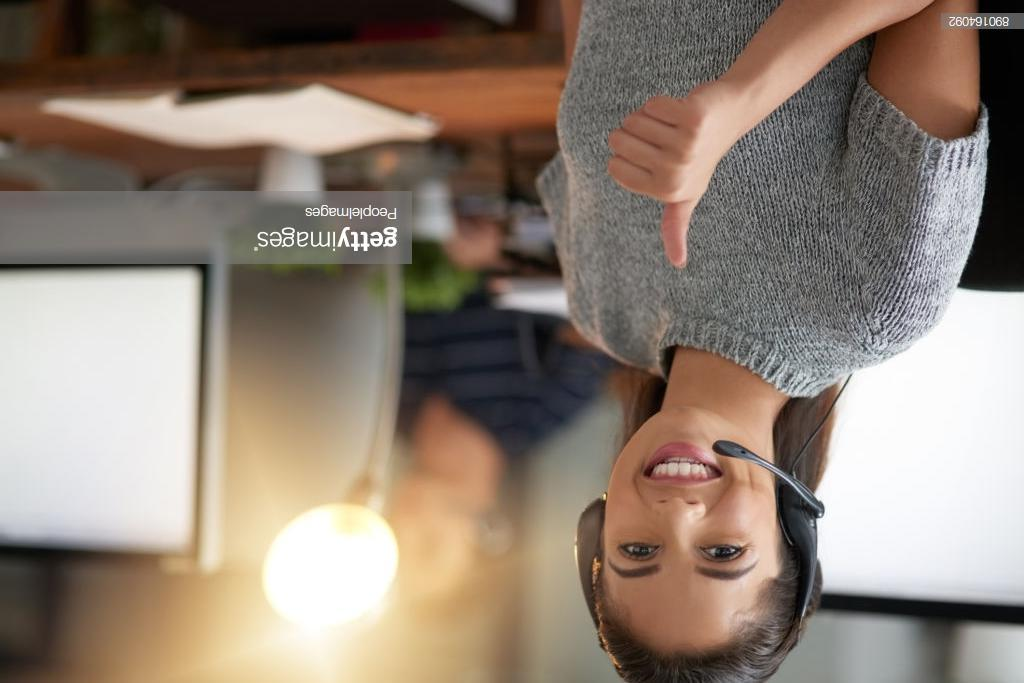thumbsdown: (607, 95, 707, 269)
